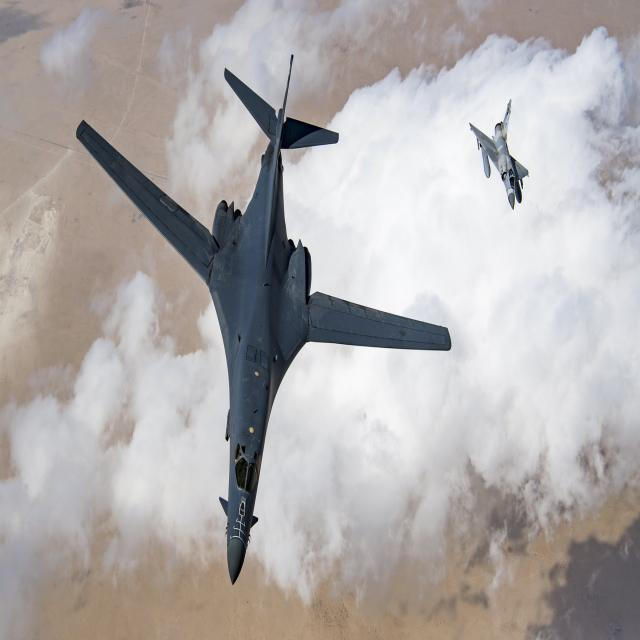MIL_Plane: (76, 54, 451, 586), (469, 98, 529, 210)
